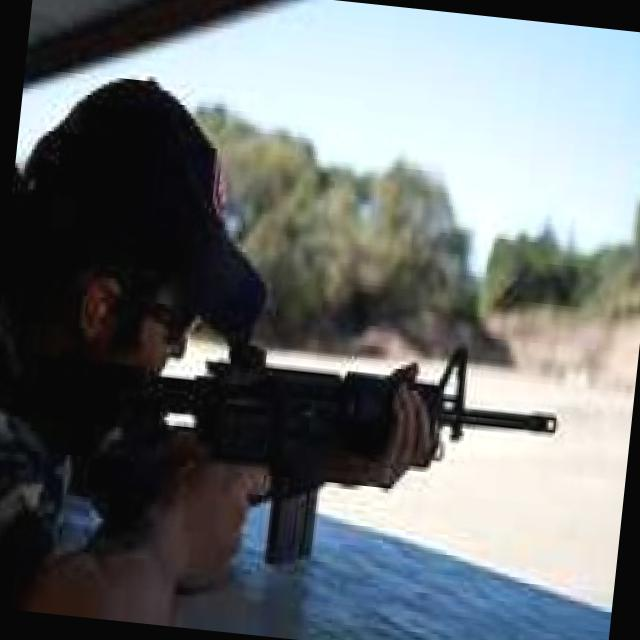long weapon: (73, 321, 574, 580)
